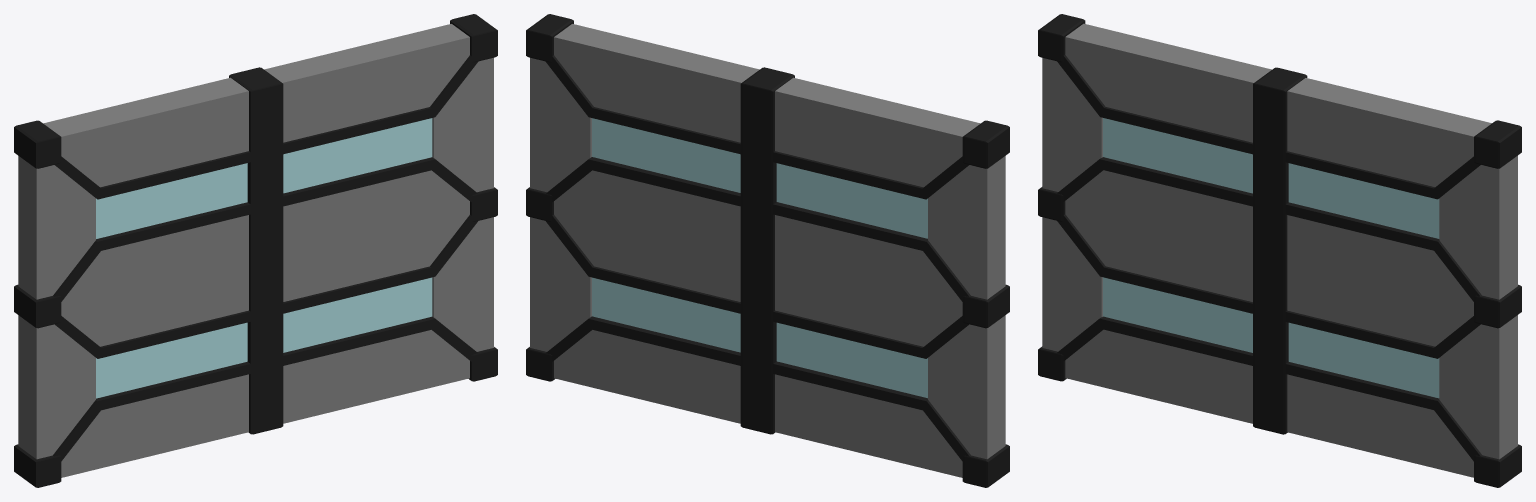
File: Tor.fbx
The picture shows the model from 3 angles, left to right: view 1: azimuth 30°, elevation 25°; view 2: azimuth 150°, elevation 25°; view 3: azimuth 330°, elevation 25°; orthographic projection.
Visible parts, largest first — view 1: Plane; view 2: Plane; view 3: Plane.
Boxes of the visible parts, x1,y1,x2,y2 form: Plane: [14, 14, 497, 487]; Plane: [526, 14, 1009, 487]; Plane: [1038, 14, 1521, 487].
Bounding box in the file's own units: 69.97 × 50.12 × 5.8.
